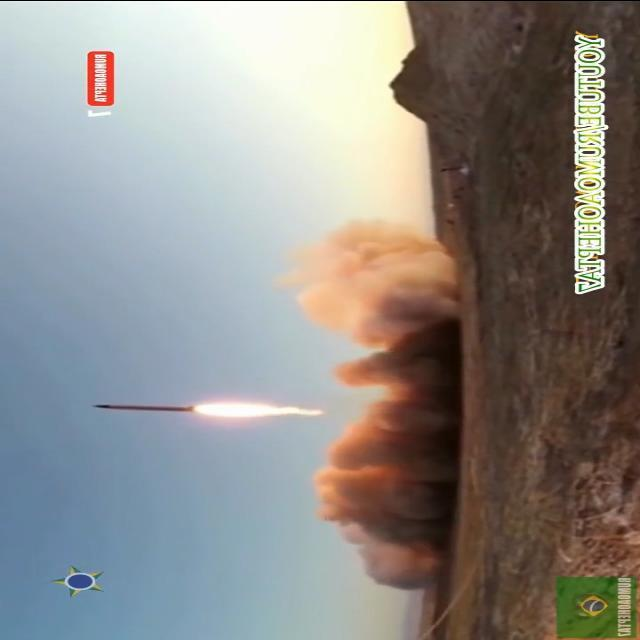Missile: (82, 399, 206, 415)
